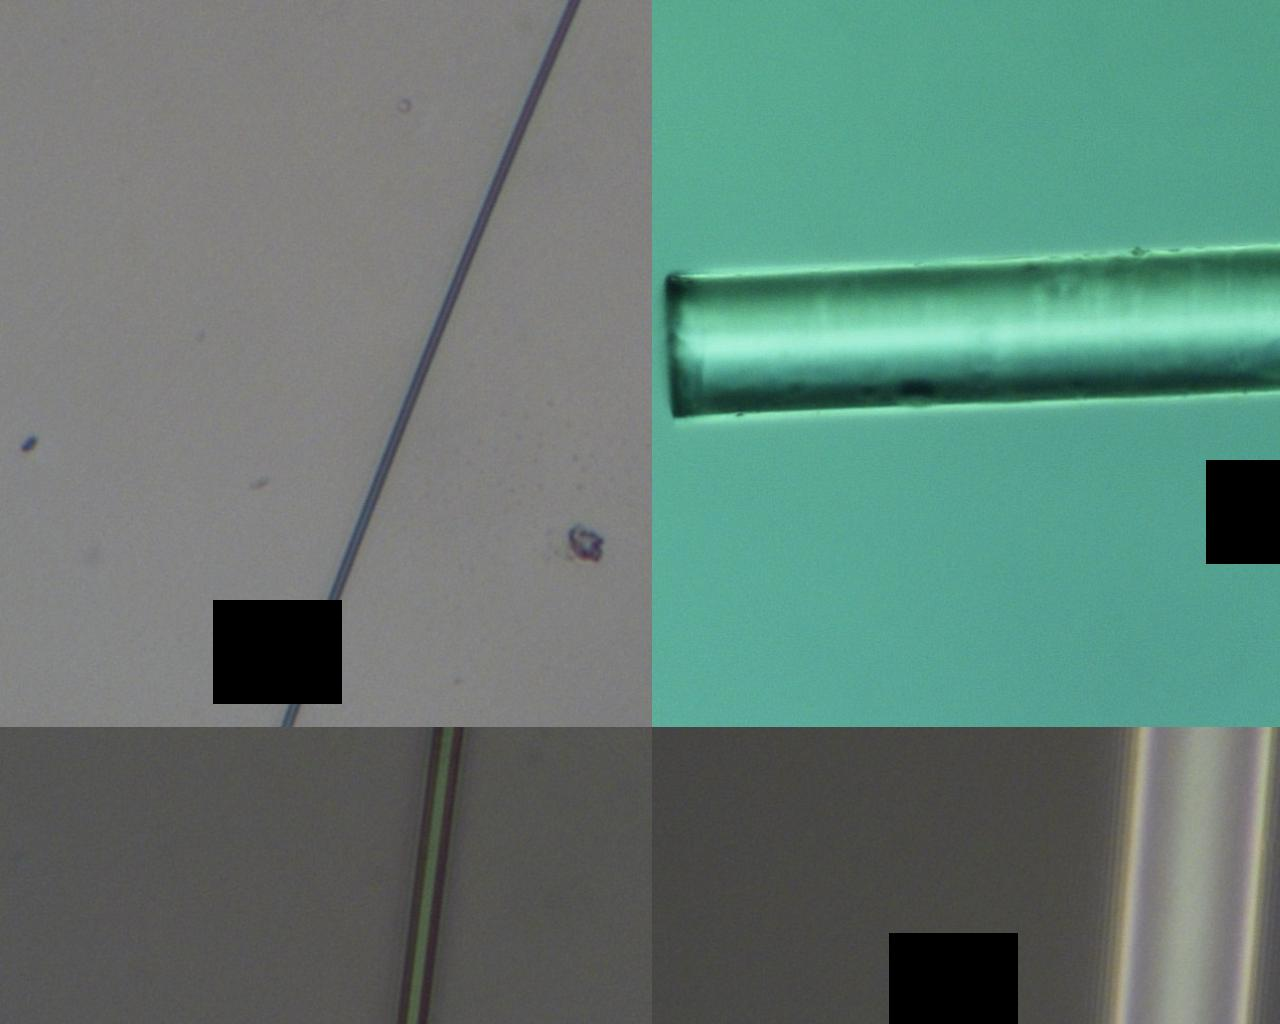fiber: (541, 450, 1108, 1024), (537, 63, 1280, 450), (233, 0, 510, 450), (0, 843, 537, 902)
